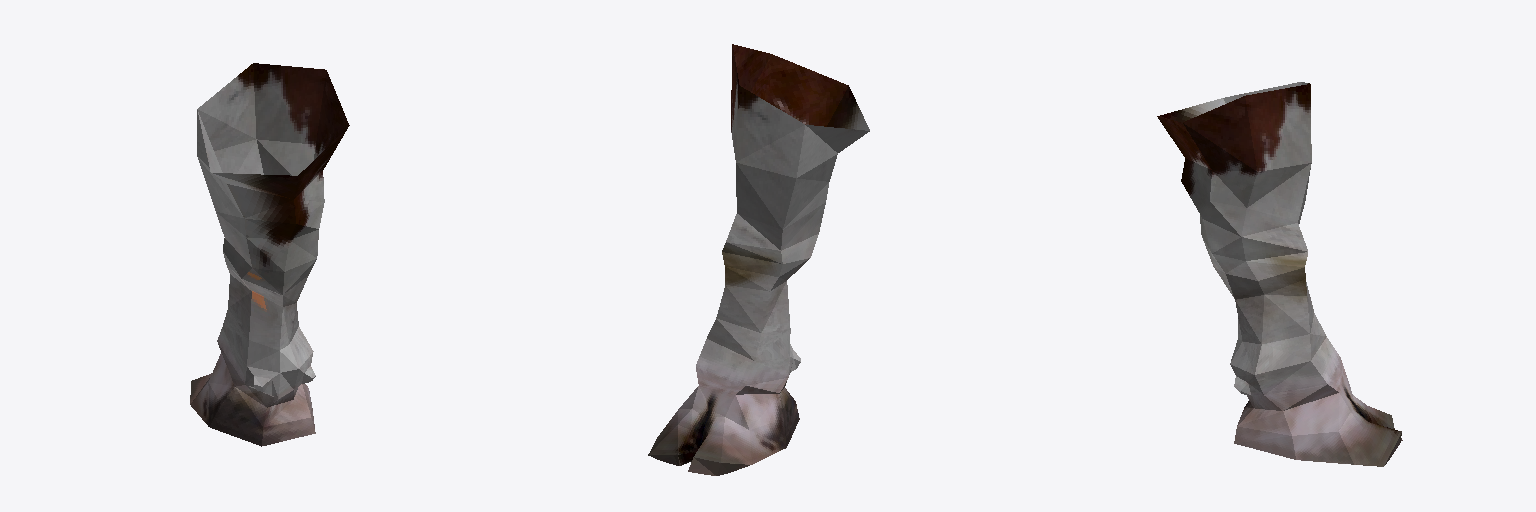
3 views of the same model, side by side, from view 1: azimuth 30°, elevation 25°; view 2: azimuth 150°, elevation 25°; view 3: azimuth 270°, elevation 25° (orthographic).
Visible parts, largest first — view 1: Object002; view 2: Object002; view 3: Object002.
Part boxes in pixels (bbox=[...]): Object002: bbox=[190, 63, 349, 446]; Object002: bbox=[648, 44, 869, 475]; Object002: bbox=[1157, 82, 1402, 466].
Size of the model in its own units: 1.07 by 2.57 by 1.54.
1 materials, 1 textured.